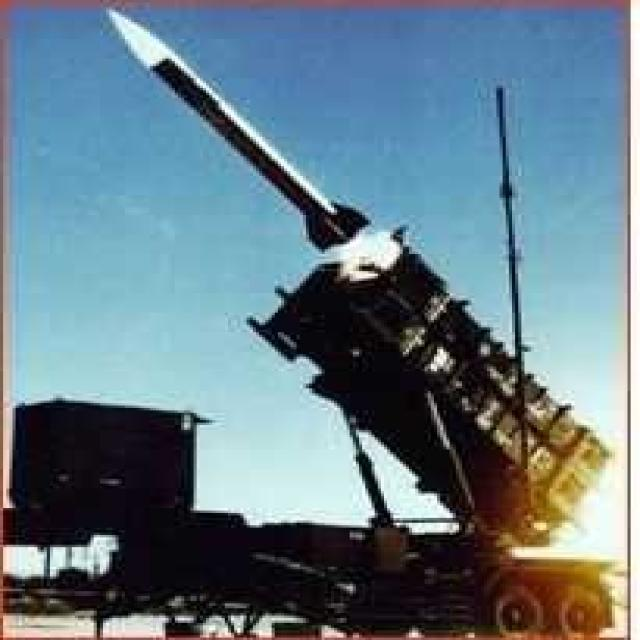missile: (93, 0, 377, 256)
